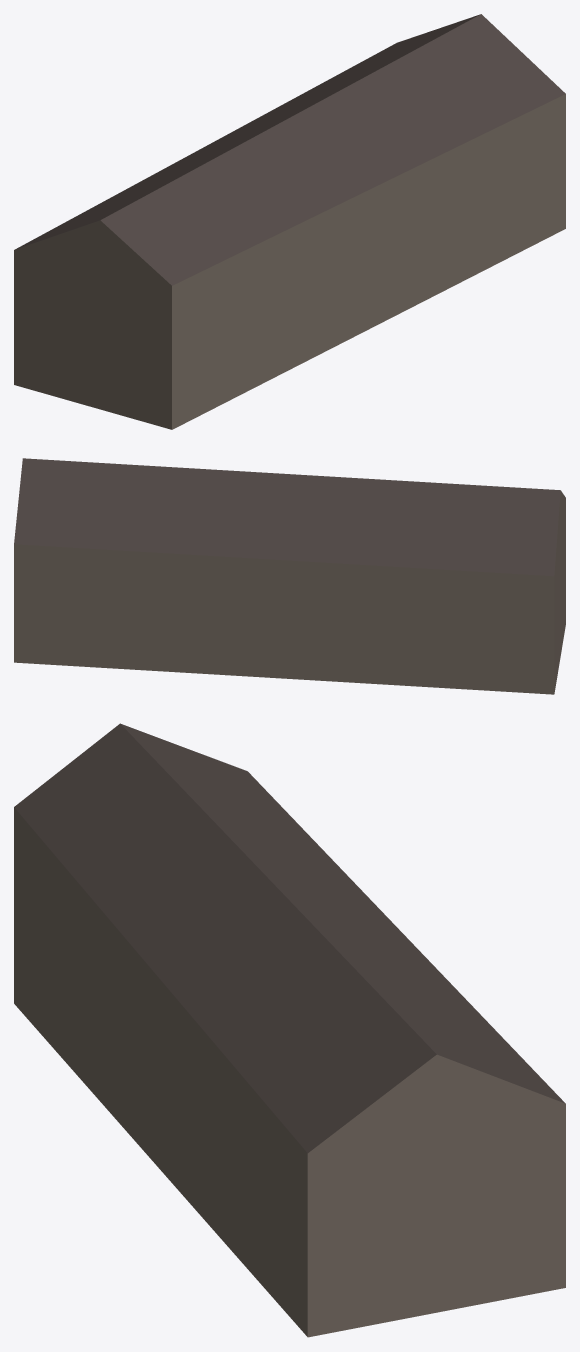
3 renders of one model, top to bottom at view 1: azimuth 30°, elevation 25°; view 2: azimuth 150°, elevation 25°; view 3: azimuth 270°, elevation 25°, orthographic. The views are drawn at different scales.
Parts seen in each view (by area): view 1: HP-w1515076969; view 2: HP-w1515076969; view 3: HP-w1515076969.
Part boxes in pixels (left/top/right/bottom): HP-w1515076969: left=14, top=14, right=565, bottom=429; HP-w1515076969: left=14, top=458, right=565, bottom=694; HP-w1515076969: left=14, top=723, right=565, bottom=1337.
Bounding box in the file's own units: 26.72 × 8.42 × 16.31.
